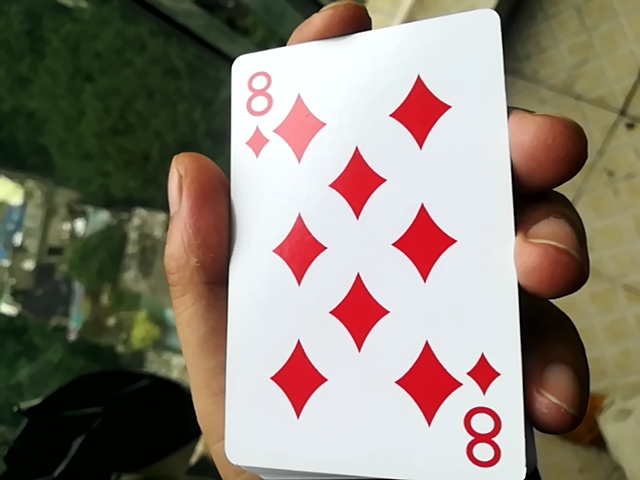fk 8: (211, 0, 511, 480)
